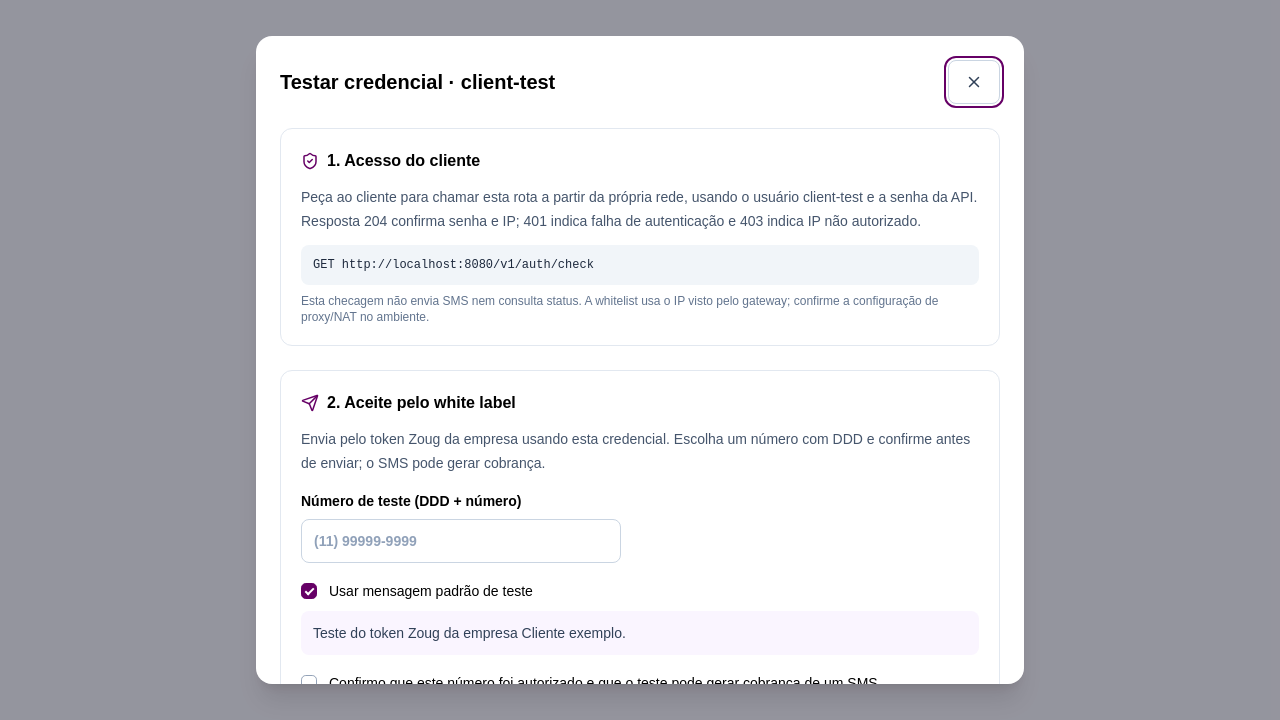
Test: requires authorized destination confirmation and sends once
The width and height of the screenshot is (1280, 720).
Type "11987654321" into the field labelled "Número de teste (DDD + número)" at (461, 541), box [301,519,621,563]
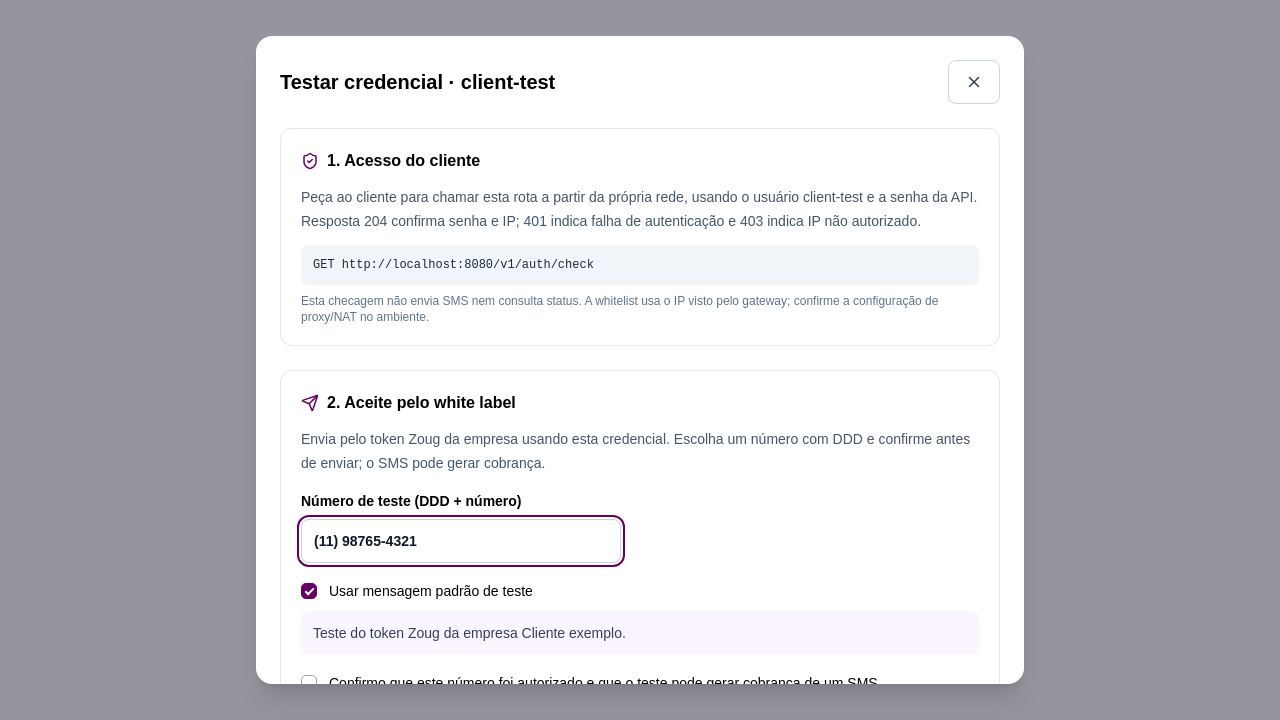
Now the field labelled "Número de teste (DDD + número)" holds "(11) 98765-4321", box [301,519,621,563]
Click the checkbox labelled "Confirmo que este número" at (309, 683), box [301,675,317,691]
(page scrolled)
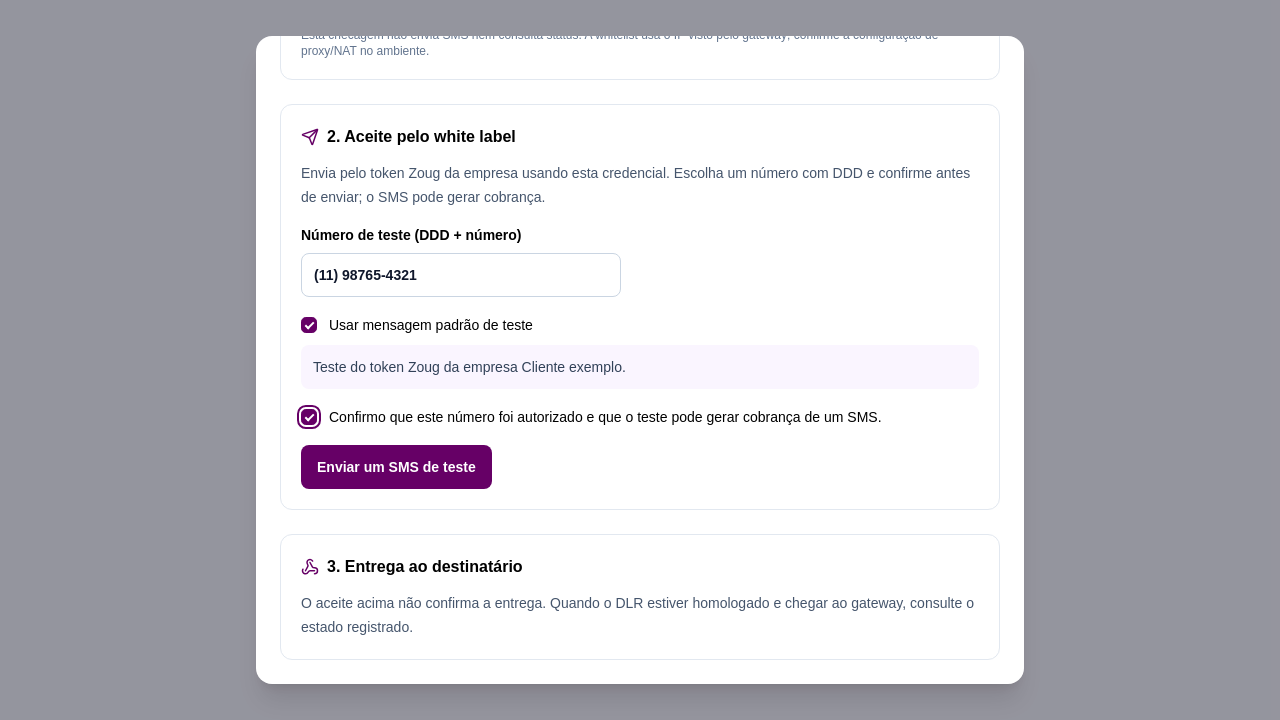
Click the button "Enviar um SMS de teste" at (396, 467), box [301,445,492,489]
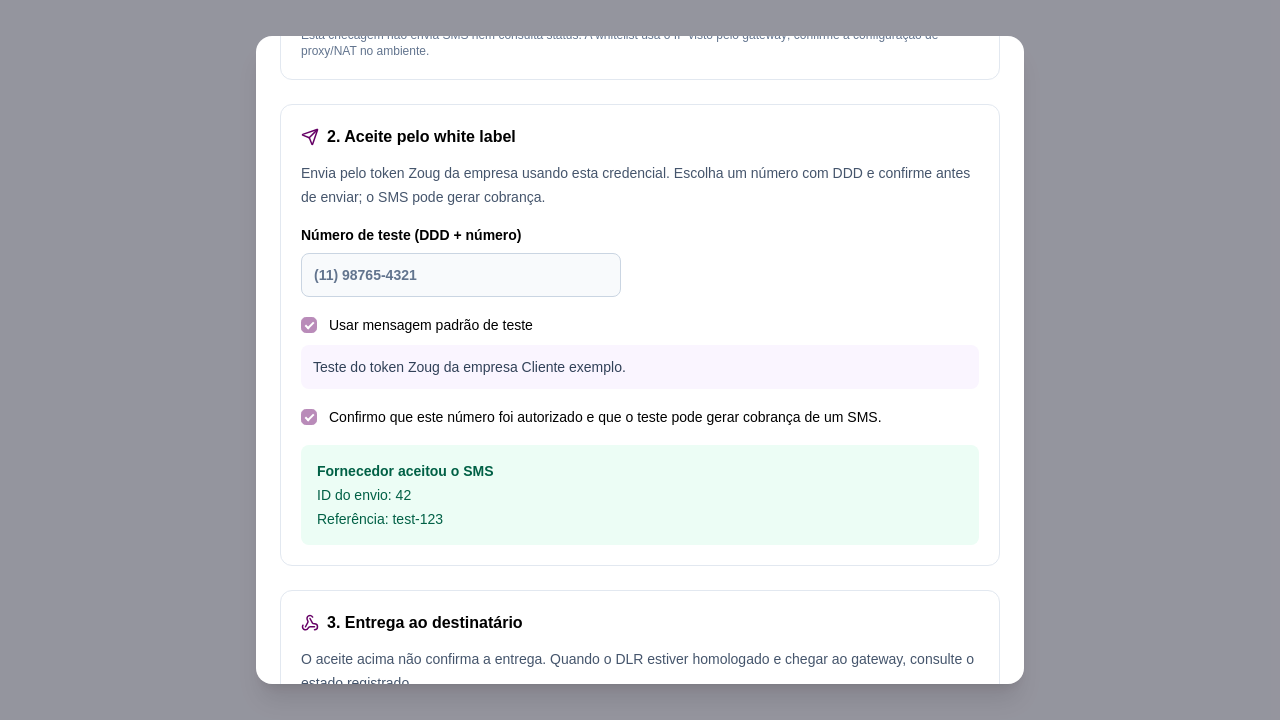
Now the text "Fornecedor aceitou o SMS" is shown, box [317,463,494,479]
Now the button "Enviar um SMS de teste" is gone
Now the text "ID do envio: 42" is shown, box [317,487,411,503]
